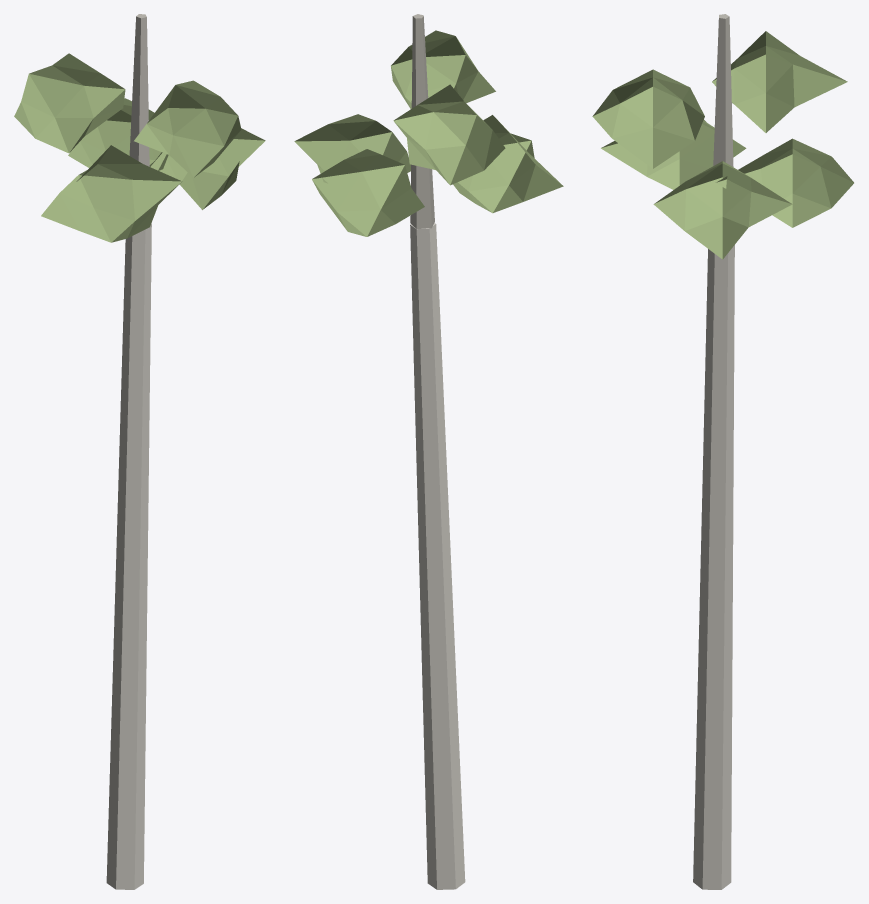
Rendered from birch_v22.glb.
The picture shows the model from 3 angles, left to right: view 1: azimuth 30°, elevation 25°; view 2: azimuth 150°, elevation 25°; view 3: azimuth 270°, elevation 25°; orthographic projection. The views are drawn at different scales.
Visible parts, largest first — view 1: lod0; view 2: lod0; view 3: lod0.
Part boxes in pixels (box(x1,y1,x2,y2)): lod0: box(14, 14, 265, 889); lod0: box(294, 14, 563, 889); lod0: box(592, 14, 853, 889).
Size of what is drawn, in the model's own units: 1.98 by 6.6 by 1.79.
